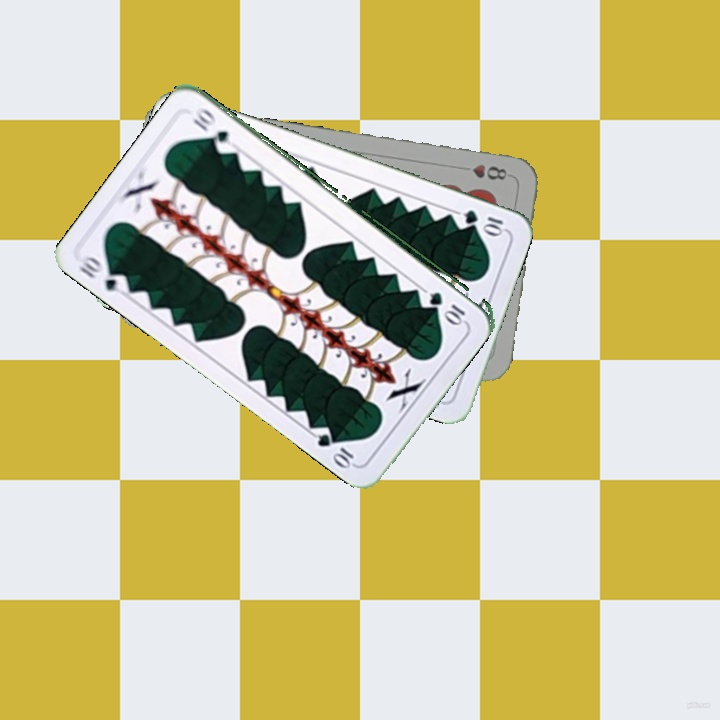G10: (75, 252, 132, 298), (425, 287, 468, 325), (460, 205, 507, 237)
H8: (469, 160, 509, 183)
